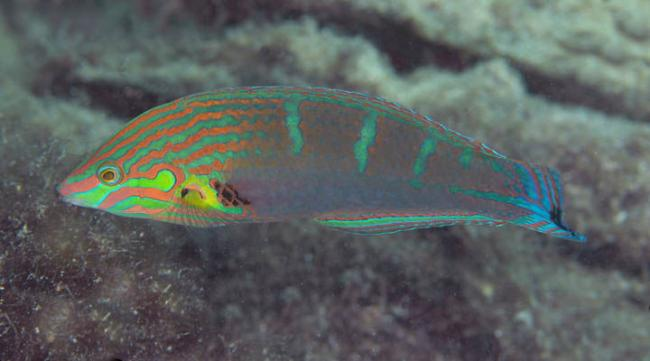fish: (55, 83, 588, 243)
